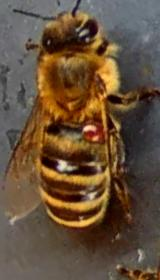varroa_mite: (73, 106, 112, 153)
